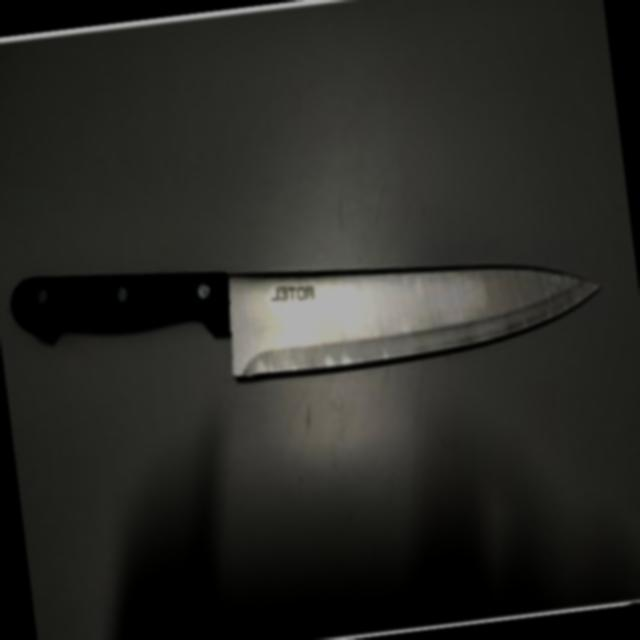knife: (3, 204, 614, 416)
